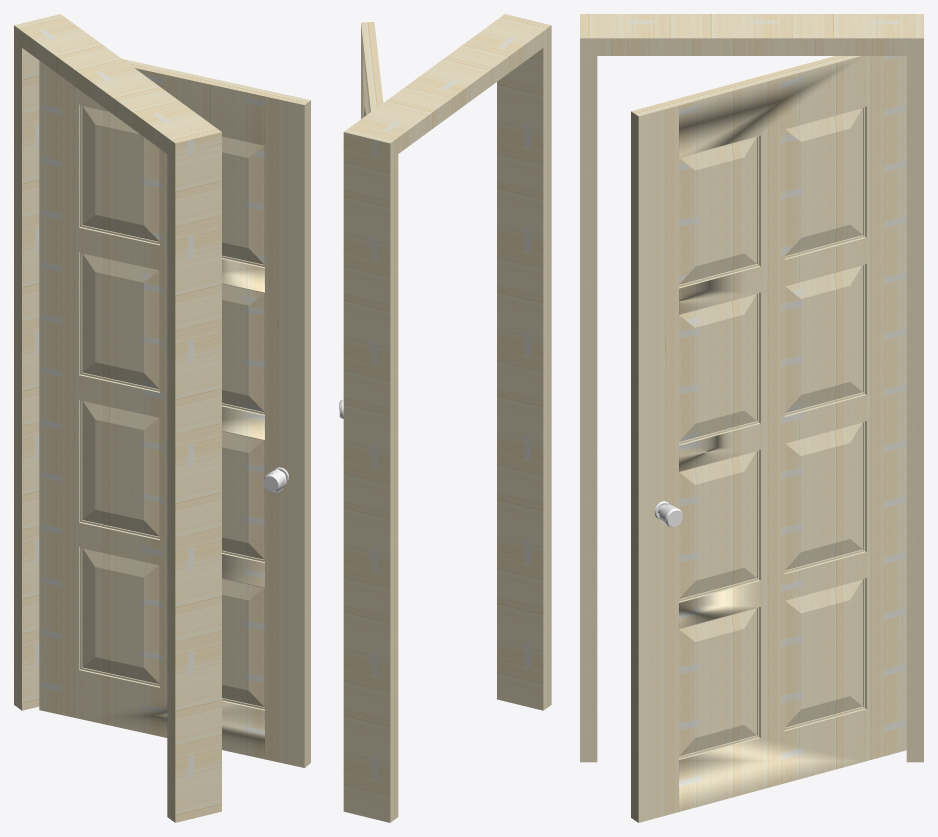
3 renders of one model, left to right at view 1: azimuth 30°, elevation 25°; view 2: azimuth 150°, elevation 25°; view 3: azimuth 270°, elevation 25°, orthographic. The views are drawn at different scales.
Visible parts, largest first — view 1: Mesh1_DoorKnob1_FlushDoor36_2_1_Door_D100_1_1_Model; view 2: Mesh1_DoorKnob1_FlushDoor36_2_1_Door_D100_1_1_Model; view 3: Mesh1_DoorKnob1_FlushDoor36_2_1_Door_D100_1_1_Model.
Part boxes in pixels (x1,y1,x2,y2): Mesh1_DoorKnob1_FlushDoor36_2_1_Door_D100_1_1_Model: [14, 14, 310, 822]; Mesh1_DoorKnob1_FlushDoor36_2_1_Door_D100_1_1_Model: [339, 14, 551, 822]; Mesh1_DoorKnob1_FlushDoor36_2_1_Door_D100_1_1_Model: [580, 14, 923, 822].
Bounding box in the file's own units: 0.2622 × 0.9968 × 0.429.
